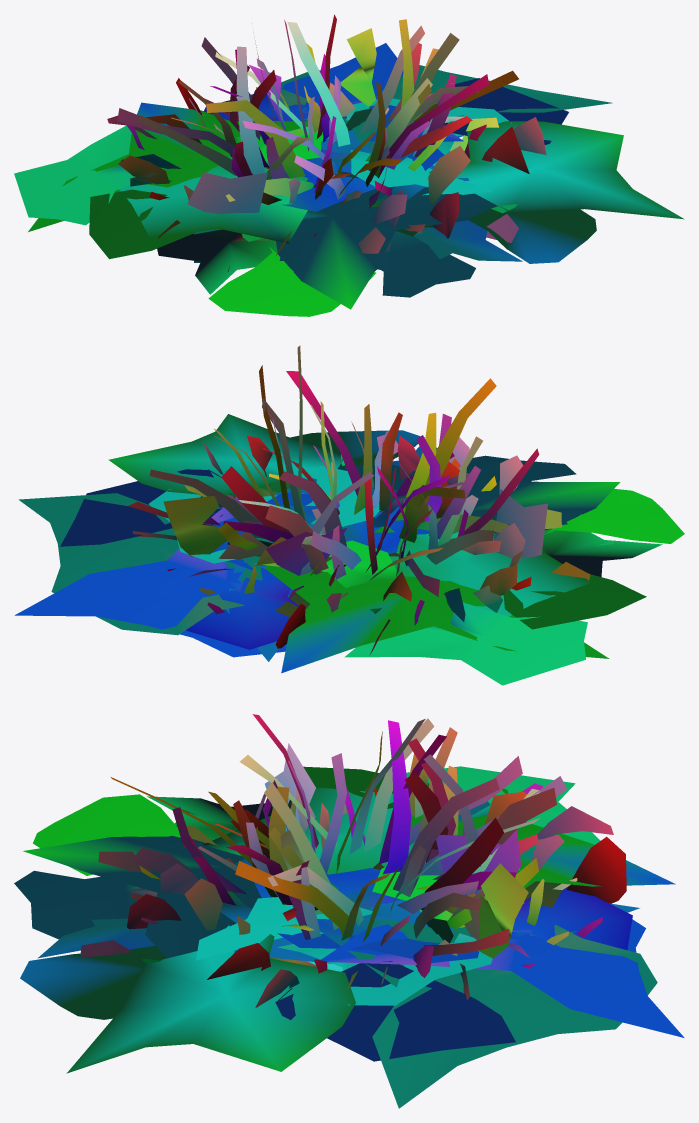
File: Wild_Grass_vdilbaiia_Mid_vdilbaiia_VarE_LOD0.fbx
3 views of the same model, one above another, from view 1: azimuth 30°, elevation 25°; view 2: azimuth 150°, elevation 25°; view 3: azimuth 270°, elevation 25° (orthographic). The views are drawn at different scales.
Parts seen in each view (by area): view 1: _0c3c_VarE_LOD1; view 2: _0c3c_VarE_LOD1; view 3: _0c3c_VarE_LOD1.
Boxes of the visible parts, bbox=[...] form: _0c3c_VarE_LOD1: bbox=[14, 14, 684, 316]; _0c3c_VarE_LOD1: bbox=[14, 345, 684, 685]; _0c3c_VarE_LOD1: bbox=[14, 714, 684, 1108].
Size of the model in its own units: 88.02 by 24.42 by 72.43.
